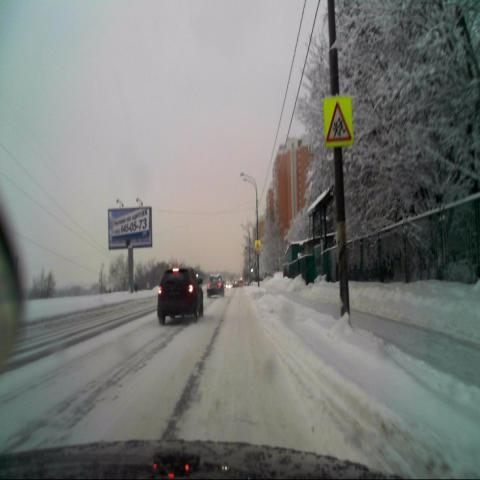1_23: (324, 93, 354, 146)
